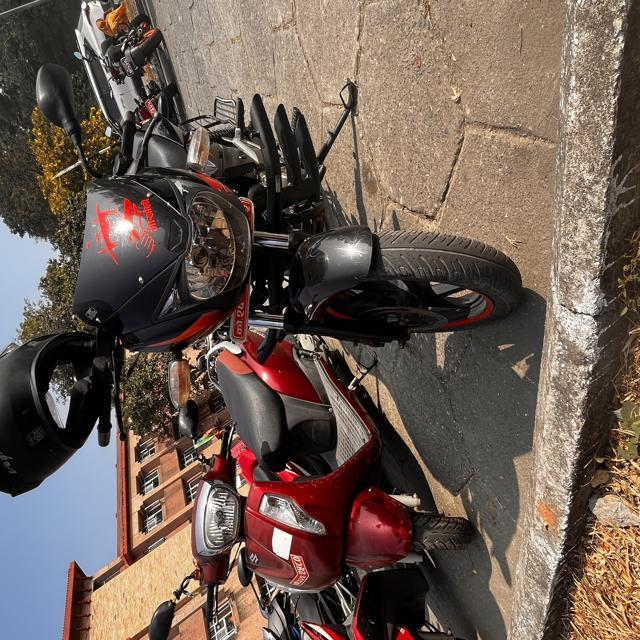license_plate: (196, 150, 290, 370)
